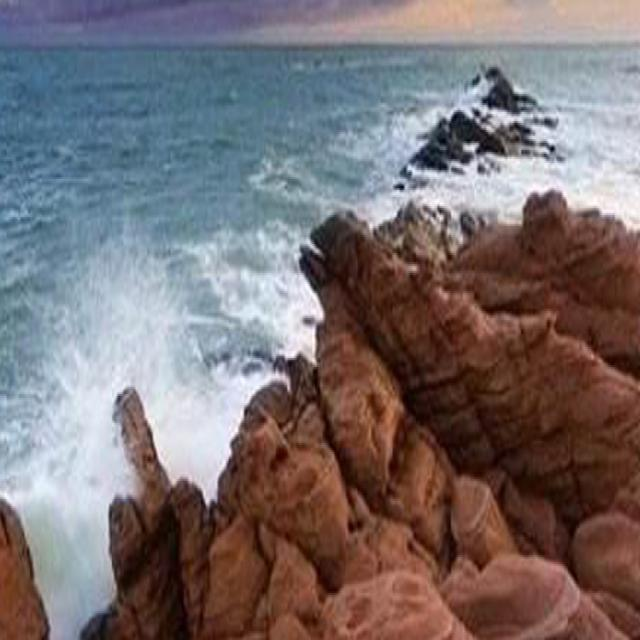reef: (133, 97, 640, 640)
